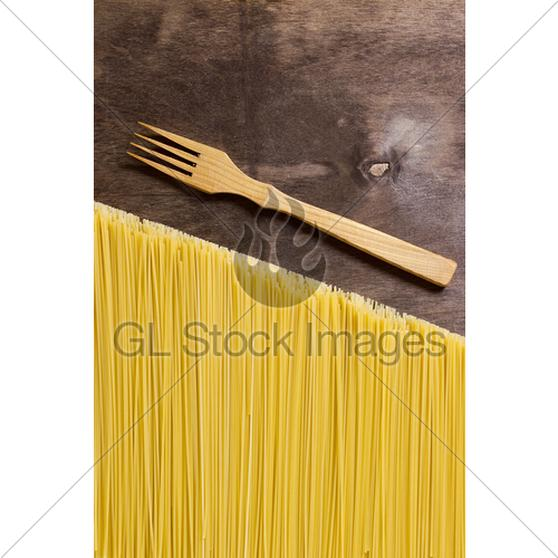spaghetti: (90, 200, 468, 558)
